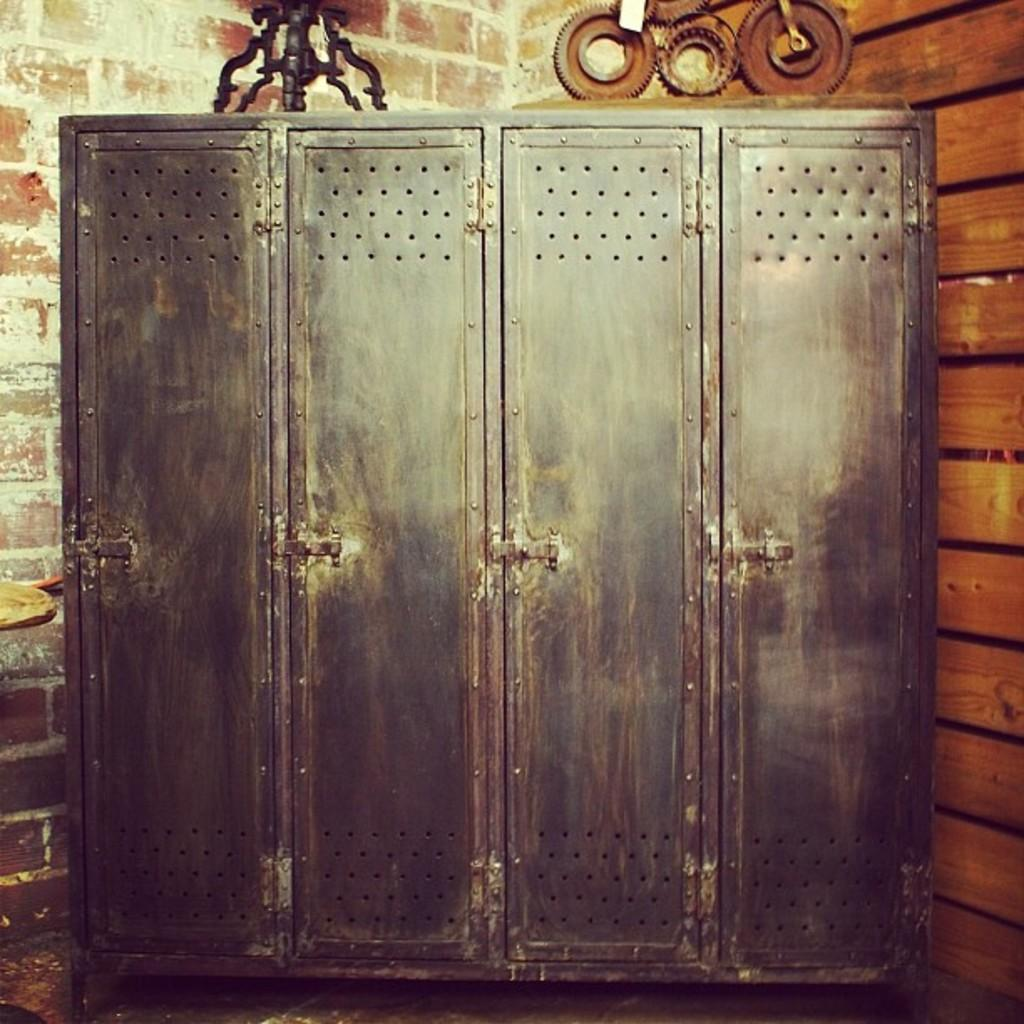door: (58, 116, 282, 972), (291, 110, 494, 966), (504, 131, 698, 936), (727, 131, 913, 946)
handle: (726, 536, 772, 569), (74, 530, 104, 568), (285, 533, 317, 566), (510, 536, 538, 569)
